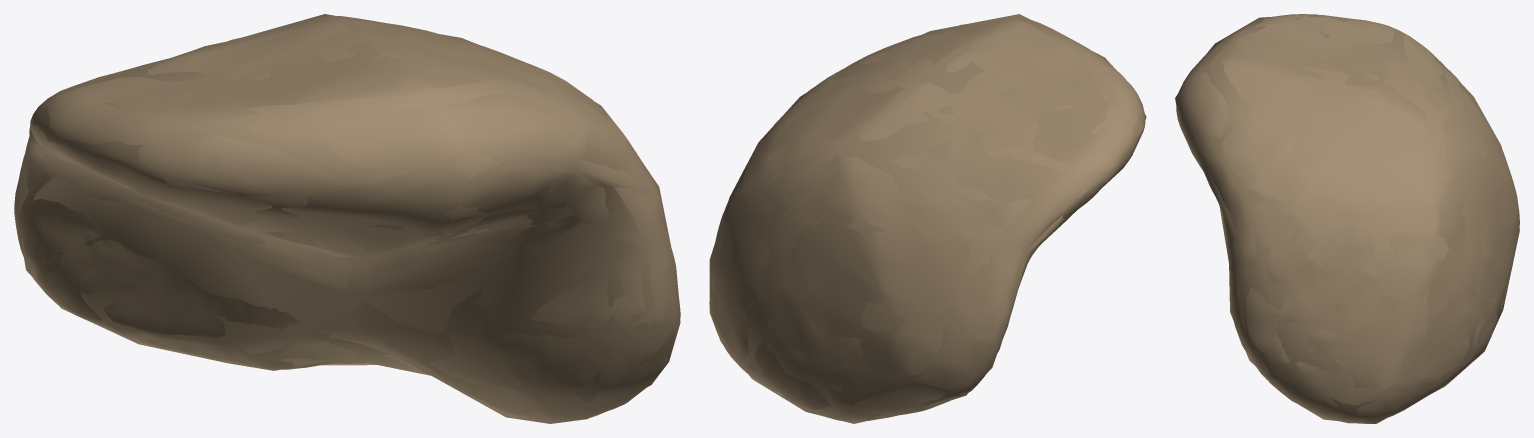
Rendered from boulder_1.glb.
The picture shows the model from 3 angles, left to right: view 1: azimuth 30°, elevation 25°; view 2: azimuth 150°, elevation 25°; view 3: azimuth 270°, elevation 25°; orthographic projection. The views are drawn at different scales.
Parts seen in each view (by area): view 1: Boulder_1, Boulder_1_Far; view 2: Boulder_1, Boulder_1_Far; view 3: Boulder_1, Boulder_1_Far.
Part boxes in pixels (left/top/right/bottom): Boulder_1: left=14, top=15, right=680, bottom=419; Boulder_1_Far: left=17, top=14, right=680, bottom=423; Boulder_1: left=709, top=19, right=1145, bottom=420; Boulder_1_Far: left=709, top=14, right=1146, bottom=423; Boulder_1: left=1176, top=14, right=1519, bottom=423; Boulder_1_Far: left=1175, top=14, right=1519, bottom=423.
Size of the model in its own units: 7.03 by 5.52 by 6.02.
